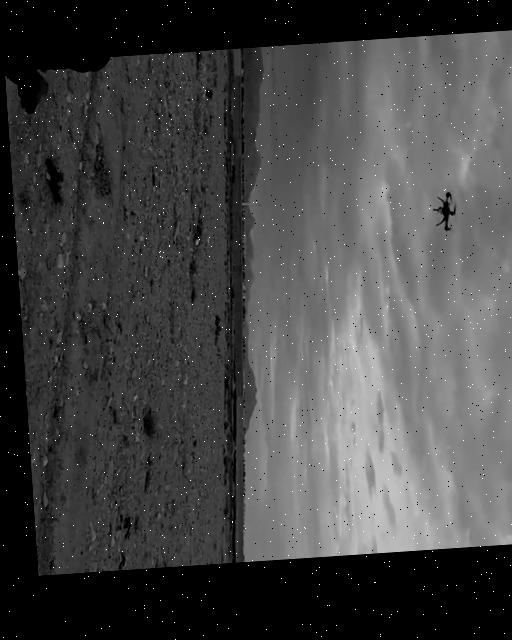drone: (424, 194, 459, 241)
